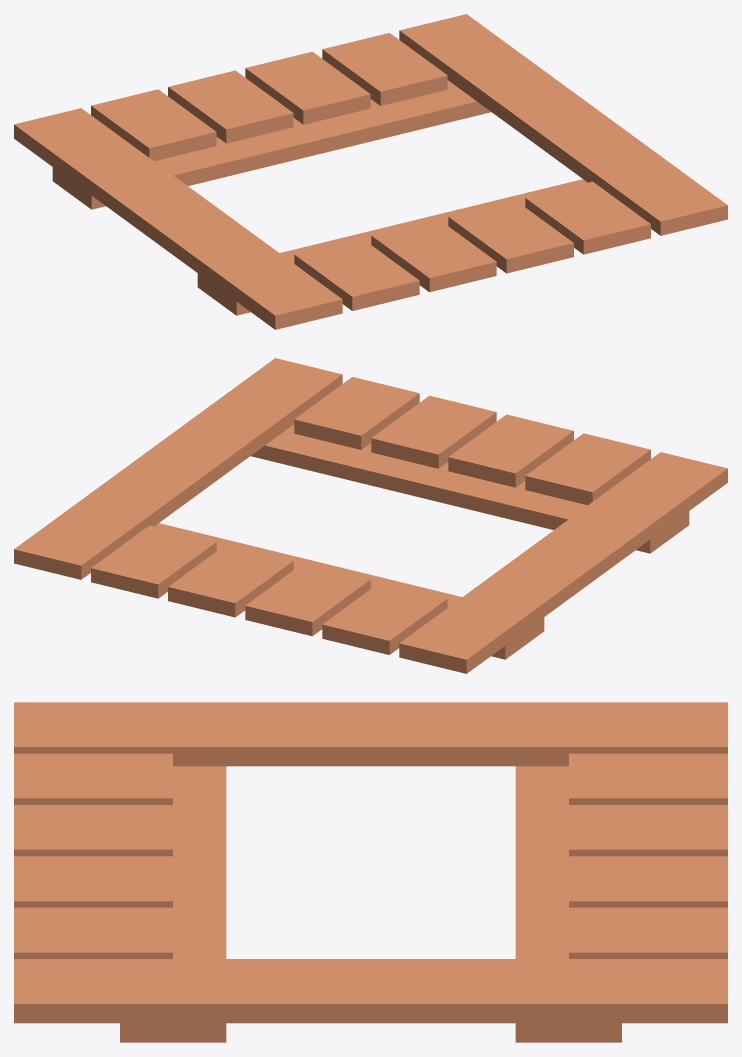
The model's file is planksOpening.fbx.
3 renders of one model, top to bottom at view 1: azimuth 30°, elevation 25°; view 2: azimuth 150°, elevation 25°; view 3: azimuth 270°, elevation 25°, orthographic. The views are drawn at different scales.
Parts seen in each view (by area): view 1: planksOpening; view 2: planksOpening; view 3: planksOpening.
Part boxes in pixels (<box>): planksOpening: <box>14,14,727,329</box>; planksOpening: <box>14,358,727,673</box>; planksOpening: <box>14,702,727,1042</box>.
Size of the model in its own units: 10 by 0.6 by 10.
